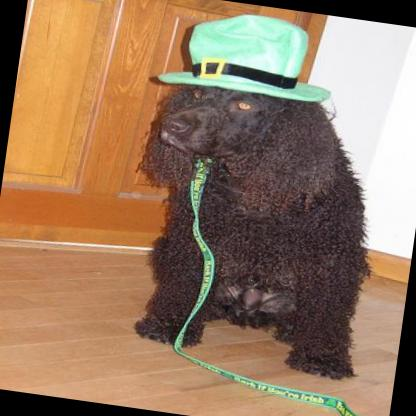Irish_water_spaniel: (113, 53, 400, 384)
